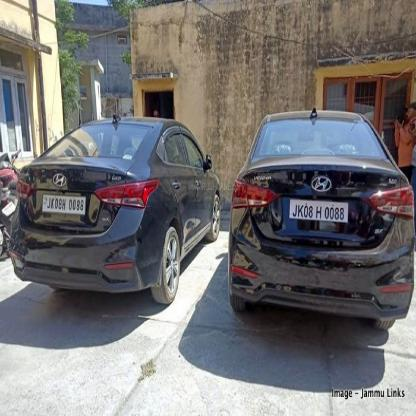car: (9, 107, 220, 304), (230, 110, 416, 331)
